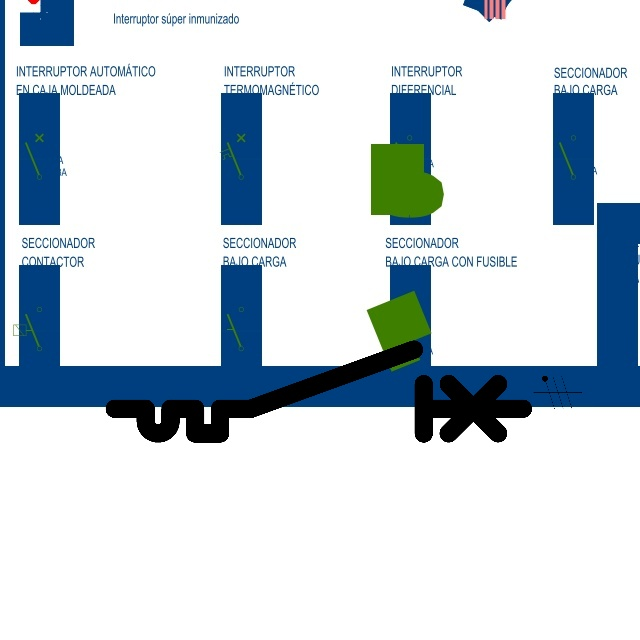interruptor_termomagnetico: (104, 339, 533, 444)
